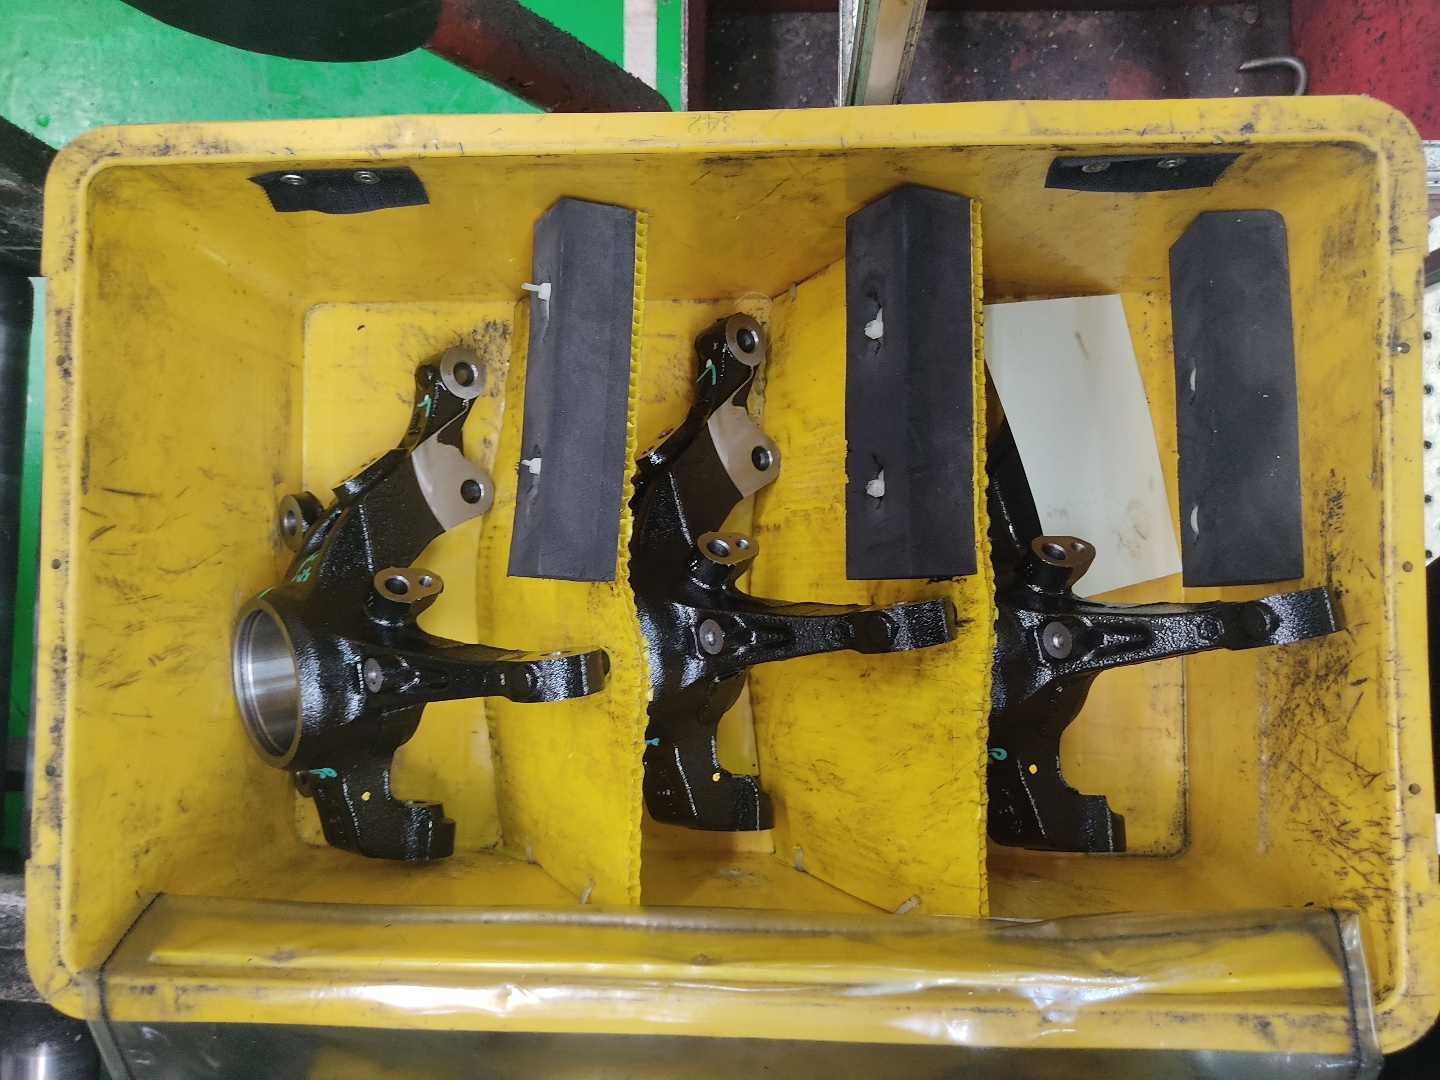abs-lh: (965, 302, 1367, 863), (222, 339, 615, 880), (632, 307, 971, 847)
